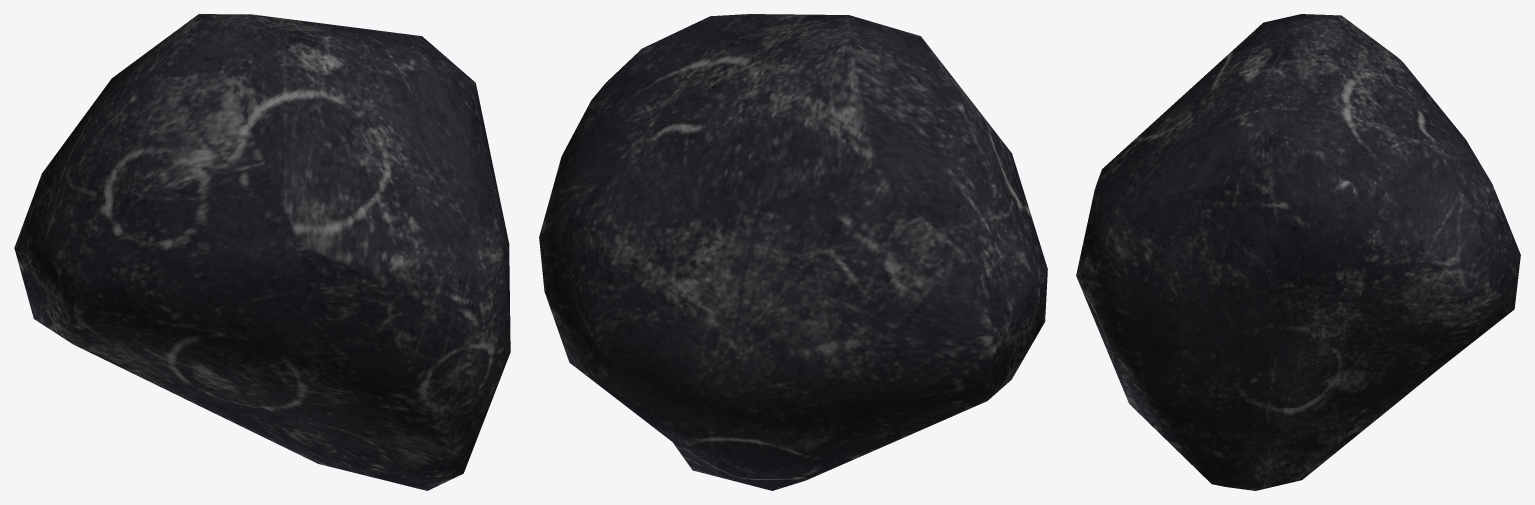
Rendered from Asteroid_2.fbx.
The picture shows the model from 3 angles, left to right: view 1: azimuth 30°, elevation 25°; view 2: azimuth 150°, elevation 25°; view 3: azimuth 270°, elevation 25°; orthographic projection. The views are drawn at different scales.
Parts seen in each view (by area): view 1: Asteroid_2_Low; view 2: Asteroid_2_Low; view 3: Asteroid_2_Low.
Part boxes in pixels (x1,y1,x2,y2): Asteroid_2_Low: (14,14,510,490); Asteroid_2_Low: (539,14,1047,490); Asteroid_2_Low: (1076,14,1520,490).
Bounding box in the file's own units: 2.76 × 2.93 × 2.93.
